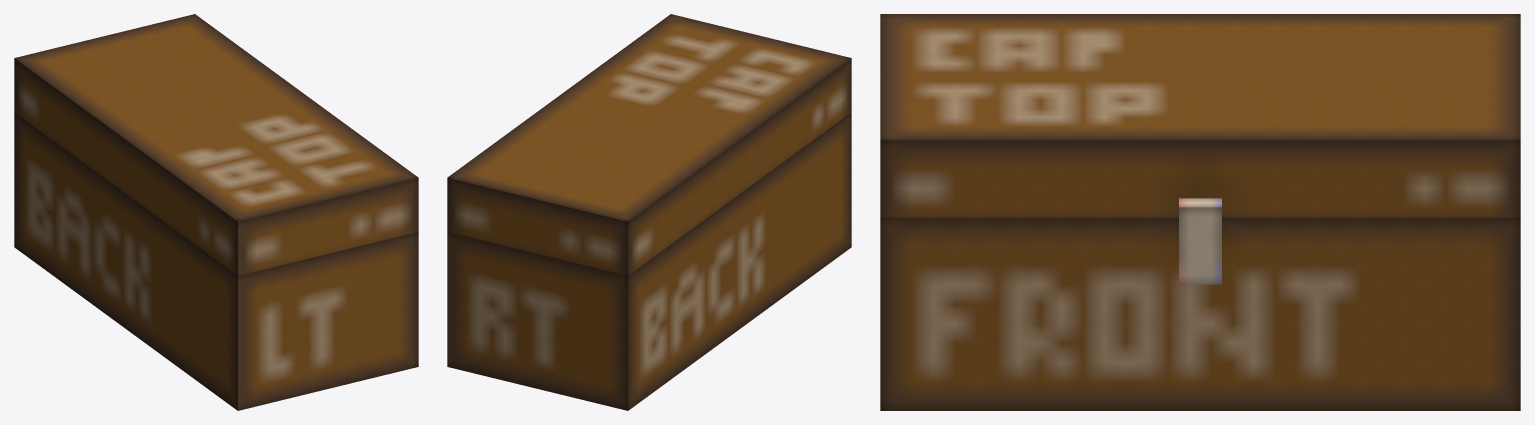
The model's file is large_chest_static_lod0.fbx.
3 views of the same model, side by side, from view 1: azimuth 30°, elevation 25°; view 2: azimuth 150°, elevation 25°; view 3: azimuth 270°, elevation 25° (orthographic). The views are drawn at different scales.
Visible parts, largest first — view 1: Large Chest (Static); view 2: Large Chest (Static); view 3: Large Chest (Static).
Boxes of the visible parts, left/top/right/bottom form: Large Chest (Static): left=14, top=14, right=418, bottom=410; Large Chest (Static): left=447, top=14, right=851, bottom=410; Large Chest (Static): left=880, top=14, right=1520, bottom=410.
Bounding box in the file's own units: 95.25 × 88.9 × 191.
